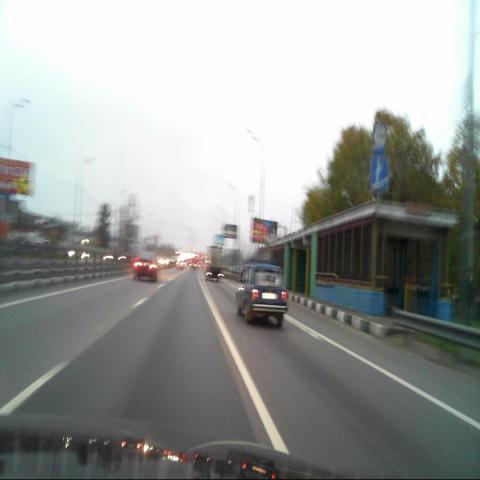6_6: (371, 156, 388, 189)
